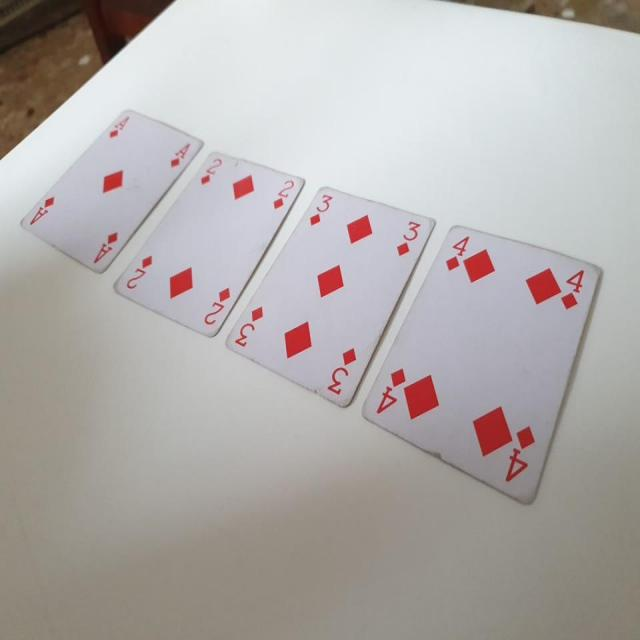2 Diamonds: (107, 148, 306, 345)
3 Diamonds: (222, 182, 436, 411)
4 Diamonds: (360, 223, 602, 511)
A Diamonds: (13, 100, 200, 276)
